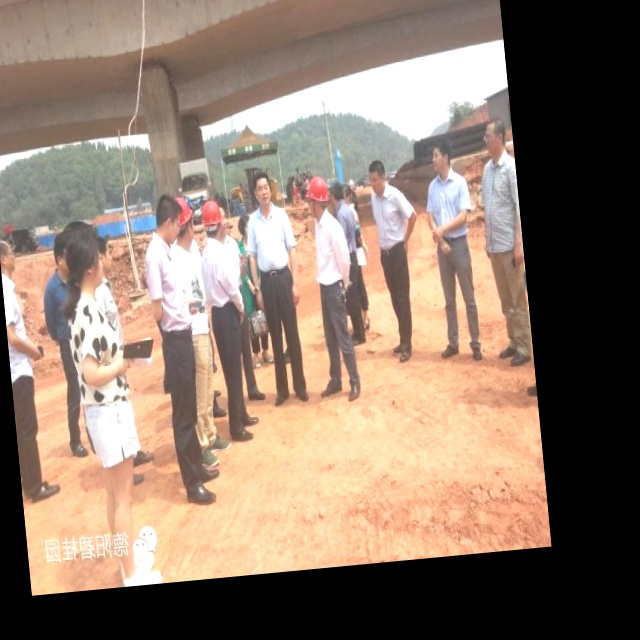Con_Casco: (304, 175, 332, 221)
Sin_Casco_Mascarrilla: (367, 159, 388, 198)
Sin_Chaleco: (245, 202, 293, 275), (424, 171, 472, 242)
